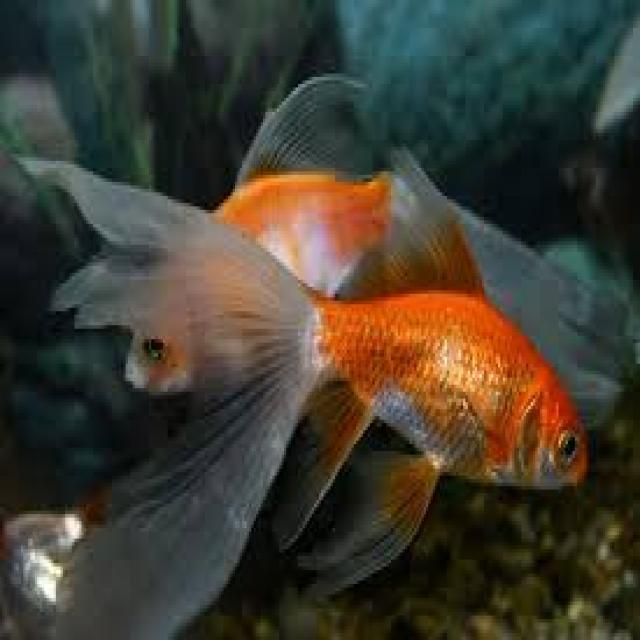goldfish: (30, 162, 586, 640), (216, 75, 618, 399), (129, 335, 184, 391)
